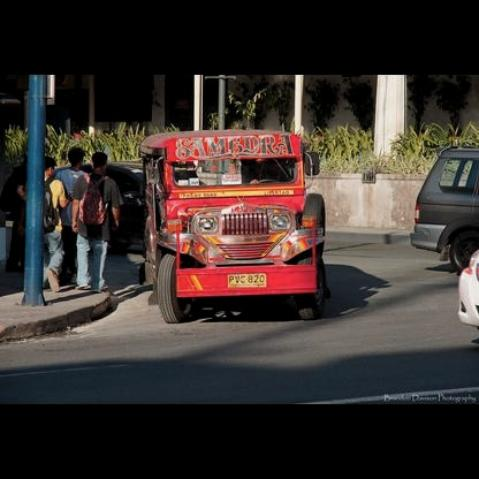jeepney: (118, 104, 350, 329)
